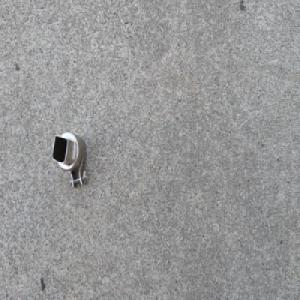MetalPart: (51, 130, 89, 190)
